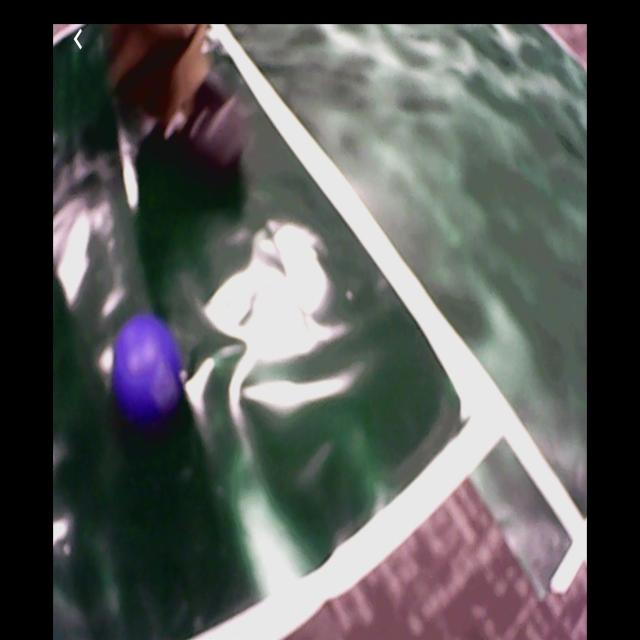ball: (108, 318, 182, 423)
